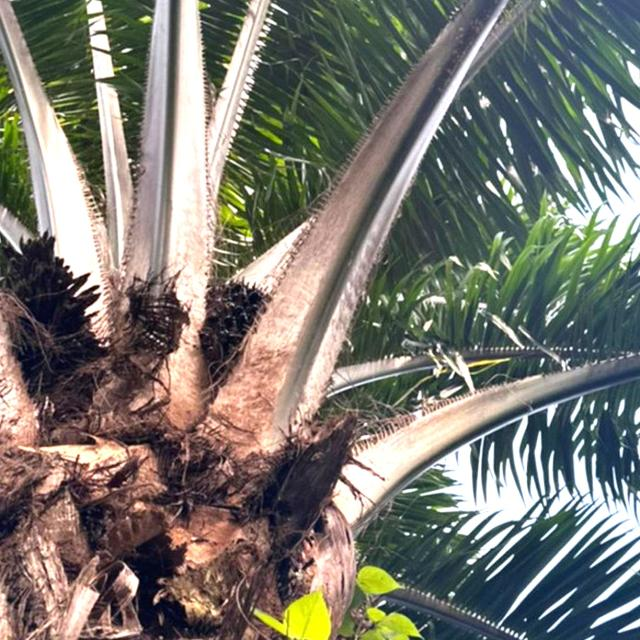unripe: (194, 274, 272, 382)
